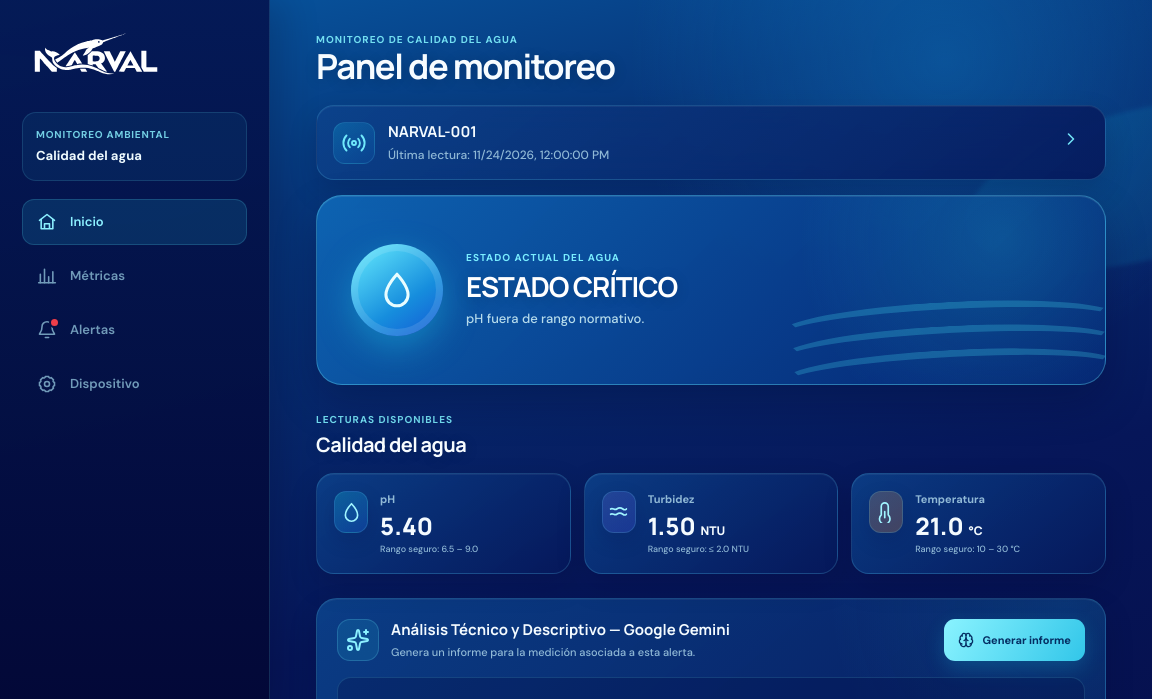
Test case: Integración de App y Regresiones UI (CP-M7-02 / CP-M7-03) › muestra la unidad pH (y no °C) al abrir el detalle de una alerta con parameter_name="ph" (Regresión BUG-001)
This screenshot has width=1152, height=699.
expect the heading "Estado Crítico" is shown: met, box x1=466 y1=272 x2=677 y2=302
# Navega a la pestaña de Alertas
What coordinates should you click on to do the following:
click the button "Alertas"
I would click on:
 (134, 330)
Its box is x1=22 y1=306 x2=247 y2=352.
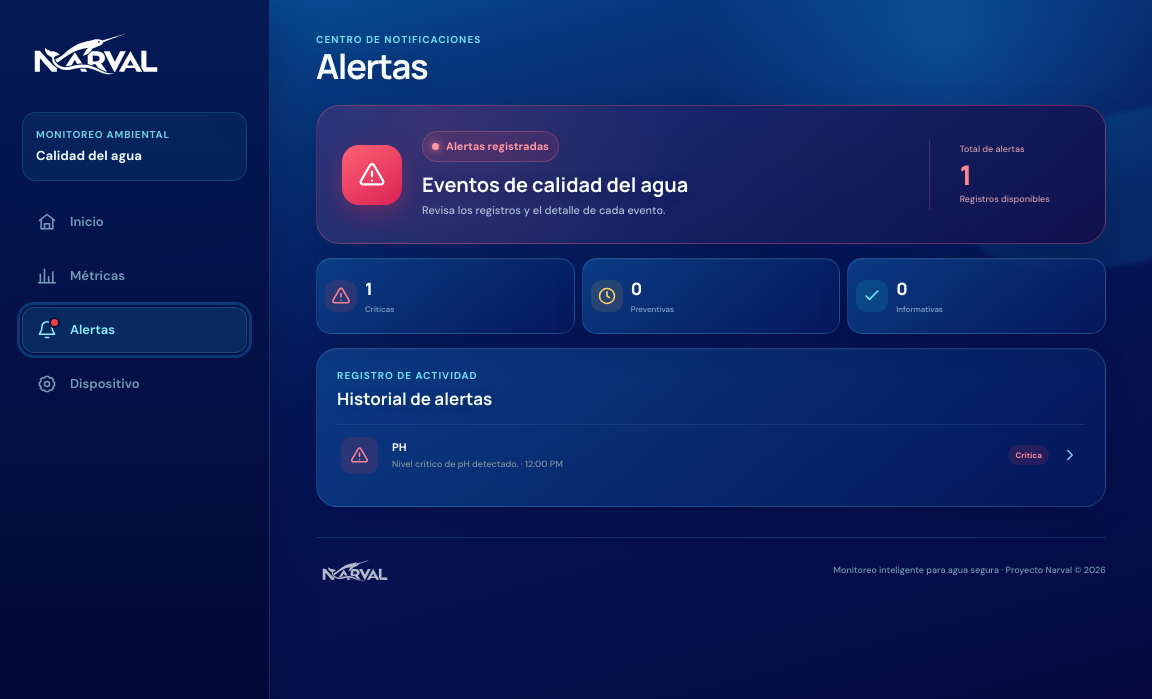
expect the text "Nivel crítico de pH detectado. · 12:00 PM" is shown: met
# Selecciona la alerta de pH
What coordinates should you click on to do the following:
click the text "Nivel crítico de pH detectado. · 12:00 PM"
I would click on:
 (478, 464)
Its box is x1=392 y1=458 x2=563 y2=470.
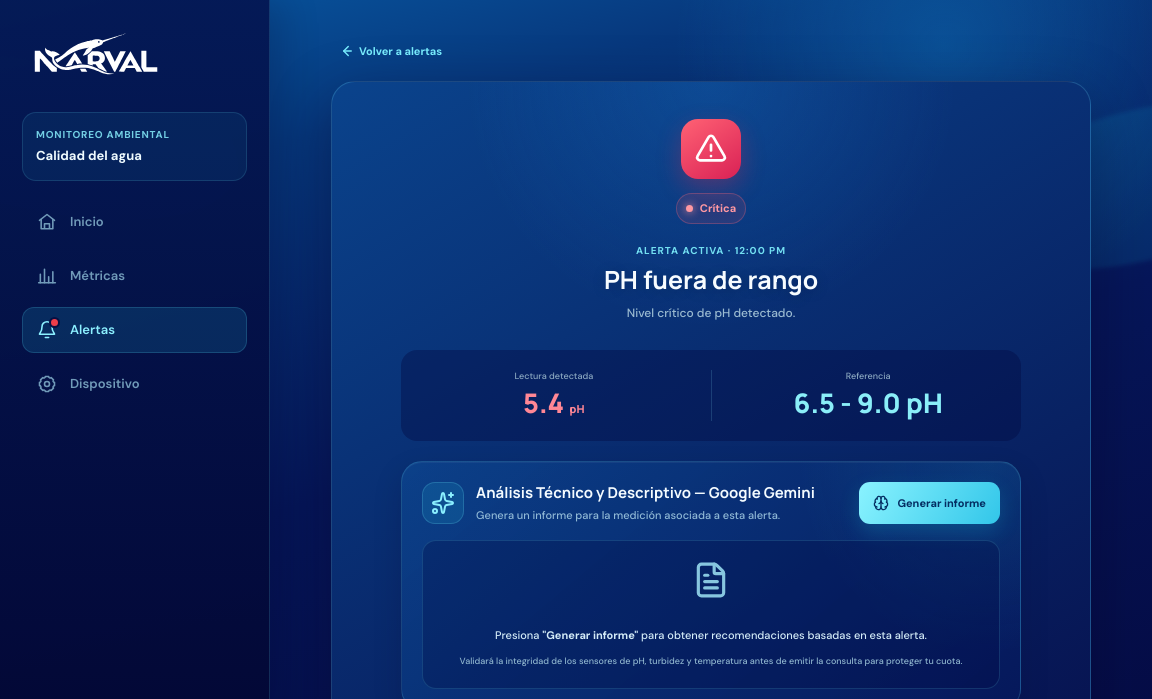
expect the text "5.4" does not show "°C": met
expect the text "5.4" shows "pH": met, box x1=570 y1=401 x2=585 y2=416
